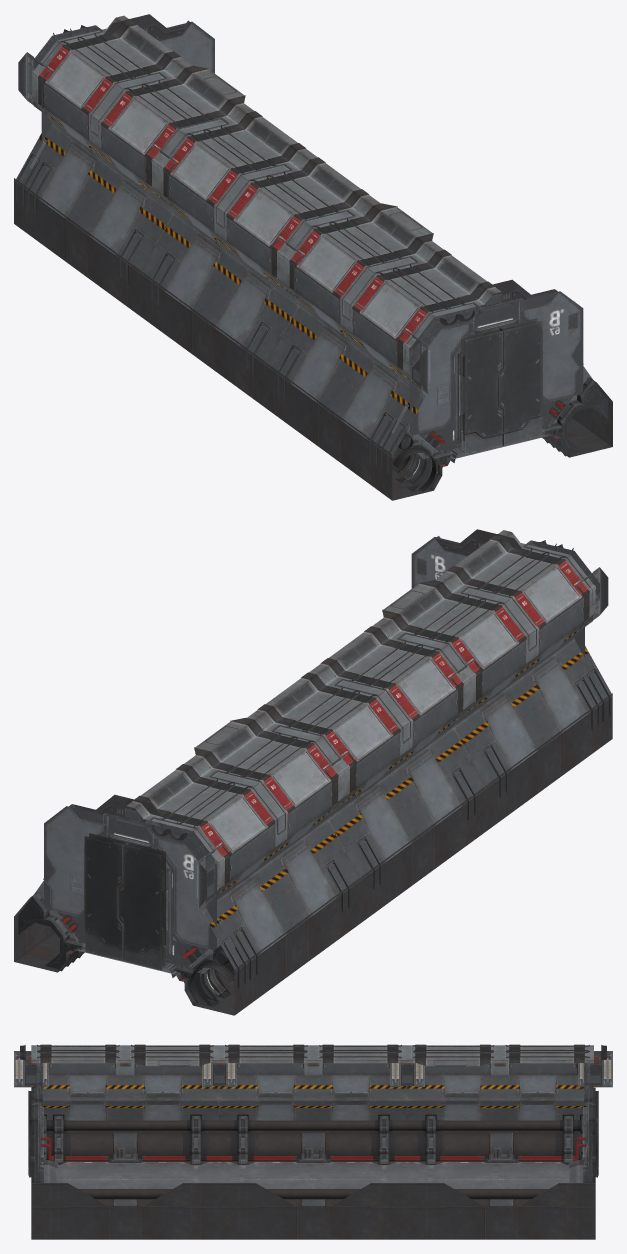
Rendered from corridor.glb.
The picture shows the model from 3 angles, top to bottom: view 1: azimuth 30°, elevation 25°; view 2: azimuth 150°, elevation 25°; view 3: azimuth 270°, elevation 25°; orthographic projection. The views are drawn at different scales.
Parts seen in each view (by area): view 1: SciFiC_Wall_0, SciFiC_Floor_0, SciFiC_Doorway_Frame_0, SciFiC_Doorway_door_0, SciFiC_Column_B_0, SciFiC_Pipeframe_0; view 2: SciFiC_Wall_0, SciFiC_Floor_0, SciFiC_Doorway_Frame_0, SciFiC_Doorway_door_0, SciFiC_Column_B_0, SciFiC_Pipeframe_0; view 3: SciFiC_Floor_0, SciFiC_Wall_0, SciFiC_Pipes_A_0, SciFiC_Pipeframe_0, SciFiC_Column_B_0, SciFiC_Doorway_Frame_0, SciFiC_PipebranchBox_0, SciFiC_Doorway_door_0, SciFiC_Doorway_Pipes_0.
Boxes of the visible parts, x1,y1,x2,y2 form: SciFiC_Wall_0: [15, 15, 501, 457]; SciFiC_Floor_0: [14, 178, 612, 500]; SciFiC_Doorway_Frame_0: [30, 14, 592, 462]; SciFiC_Doorway_door_0: [461, 318, 542, 455]; SciFiC_Column_B_0: [18, 25, 481, 394]; SciFiC_Pipeframe_0: [16, 154, 608, 492]; SciFiC_Wall_0: [127, 530, 612, 971]; SciFiC_Floor_0: [14, 693, 612, 1015]; SciFiC_Doorway_Frame_0: [34, 529, 596, 977]; SciFiC_Doorway_door_0: [84, 833, 165, 970]; SciFiC_Column_B_0: [145, 540, 608, 909]; SciFiC_Pipeframe_0: [18, 668, 610, 1007]; SciFiC_Floor_0: [31, 1131, 595, 1239]; SciFiC_Wall_0: [31, 1044, 593, 1120]; SciFiC_Pipes_A_0: [63, 1120, 563, 1205]; SciFiC_Pipeframe_0: [41, 1114, 584, 1164]; SciFiC_Column_B_0: [14, 1045, 612, 1087]; SciFiC_Doorway_Frame_0: [31, 1063, 595, 1182]; SciFiC_PipebranchBox_0: [108, 1148, 518, 1162]; SciFiC_Doorway_door_0: [28, 1090, 598, 1177]; SciFiC_Doorway_Pipes_0: [41, 1137, 585, 1161].
Size of the model in its own units: 2.6 by 2.08 by 8.15.
Materials: 10 (10 with a texture image).
